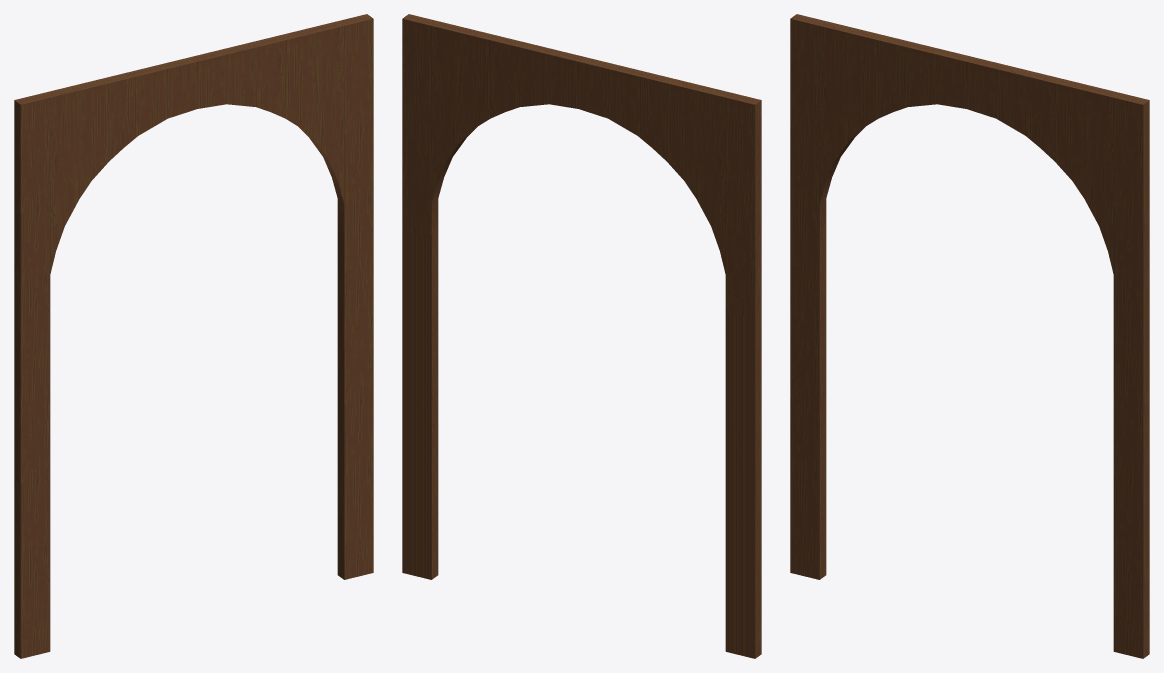
File: Wall_Arch.gltf
3 views of the same model, side by side, from view 1: azimuth 30°, elevation 25°; view 2: azimuth 150°, elevation 25°; view 3: azimuth 330°, elevation 25° (orthographic).
Visible parts, largest first — view 1: Wall_Arch; view 2: Wall_Arch; view 3: Wall_Arch.
Boxes of the visible parts, x1,y1,x2,y2 form: Wall_Arch: (14, 14, 373, 658); Wall_Arch: (402, 14, 761, 658); Wall_Arch: (790, 14, 1149, 658).
Size of the model in its own units: 2 by 3 by 0.064.
1 material, 1 textured.
